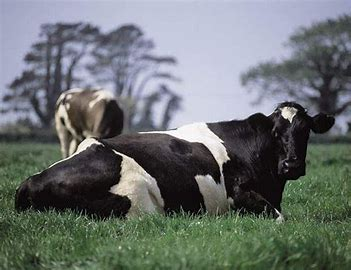waka: (13, 99, 335, 229)
